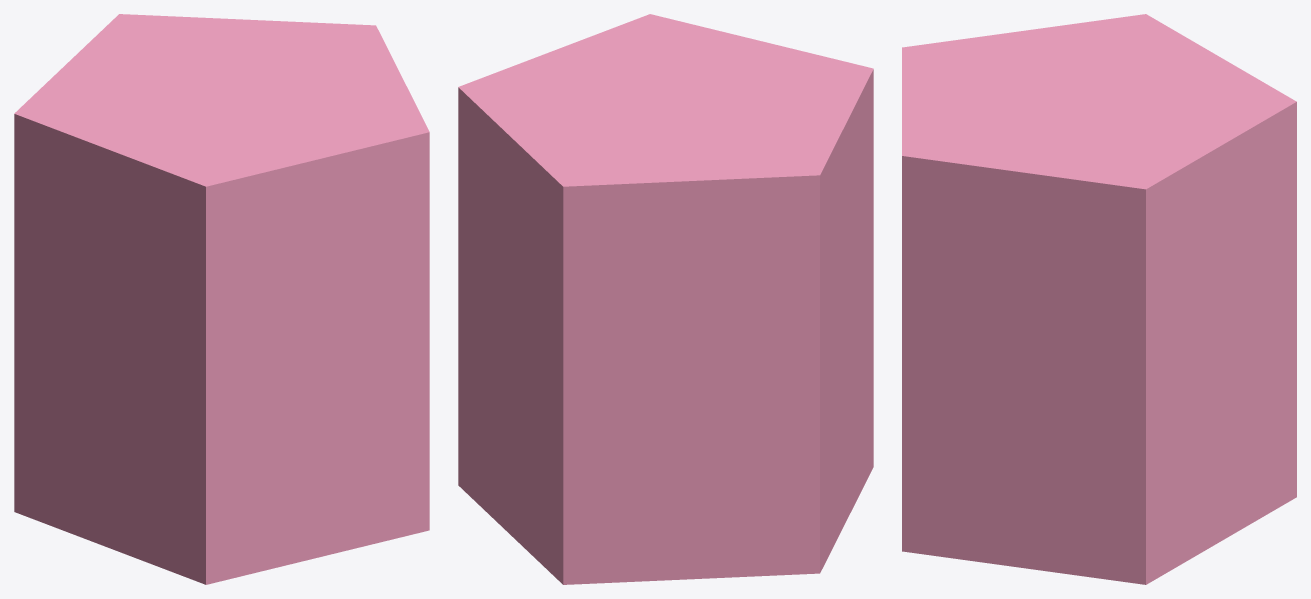
The model's file is Prisma Pentagonal.glb.
The picture shows the model from 3 angles, left to right: view 1: azimuth 30°, elevation 25°; view 2: azimuth 150°, elevation 25°; view 3: azimuth 270°, elevation 25°; orthographic projection.
Parts seen in each view (by area): view 1: Prisma Pentagonal; view 2: Prisma Pentagonal; view 3: Prisma Pentagonal.
Part boxes in pixels (box(x1,y1,x2,y2)): Prisma Pentagonal: box(14, 14, 429, 584); Prisma Pentagonal: box(458, 14, 873, 584); Prisma Pentagonal: box(902, 14, 1296, 584).
Bounding box in the file's own units: 1.9 × 2 × 1.81.
